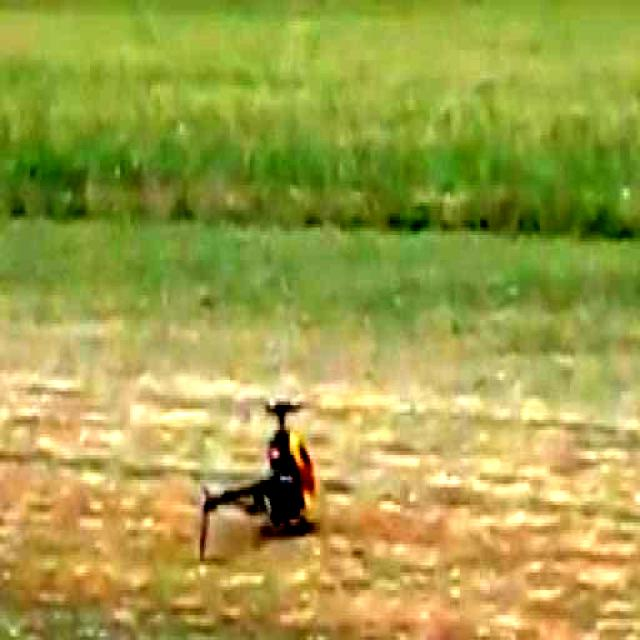drone: (178, 378, 321, 540)
